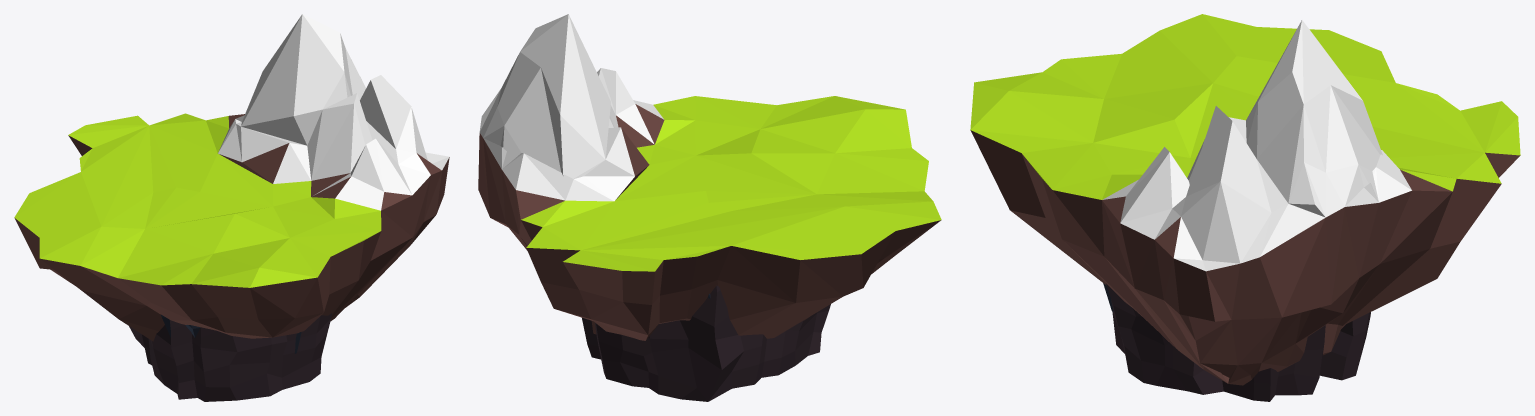
The model's file is SceneryModels.glb.
3 views of the same model, side by side, from view 1: azimuth 30°, elevation 25°; view 2: azimuth 150°, elevation 25°; view 3: azimuth 270°, elevation 25° (orthographic). The views are drawn at different scales.
Visible parts, largest first — view 1: Platform_with_Mountain_light_green, platform_2_brown; view 2: Platform_with_Mountain_light_green, platform_2_brown; view 3: Platform_with_Mountain_light_green, platform_2_brown.
Part boxes in pixels (x1,y1,x2,y2): Platform_with_Mountain_light_green: [14, 14, 449, 341]; platform_2_brown: [129, 313, 332, 401]; Platform_with_Mountain_light_green: [478, 14, 941, 340]; platform_2_brown: [582, 285, 830, 401]; Platform_with_Mountain_light_green: [970, 14, 1520, 385]; platform_2_brown: [1106, 283, 1370, 401].
Bounding box in the file's own units: 45.98 × 32.6 × 41.44.
